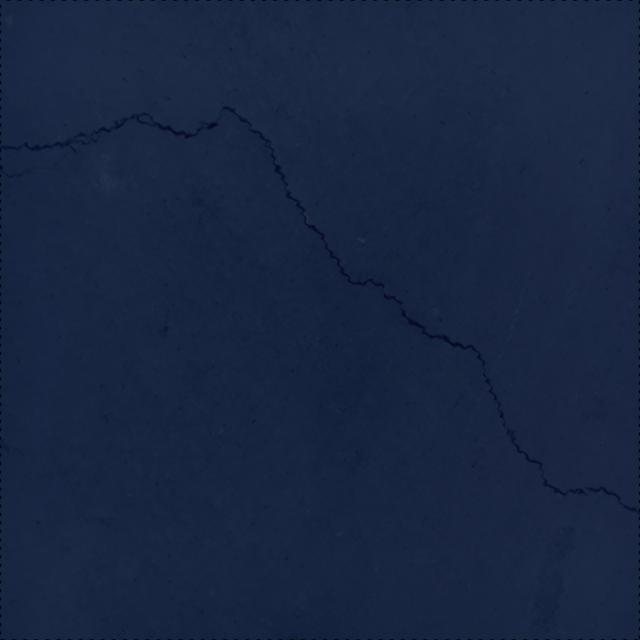crack: (0, 105, 640, 516)
